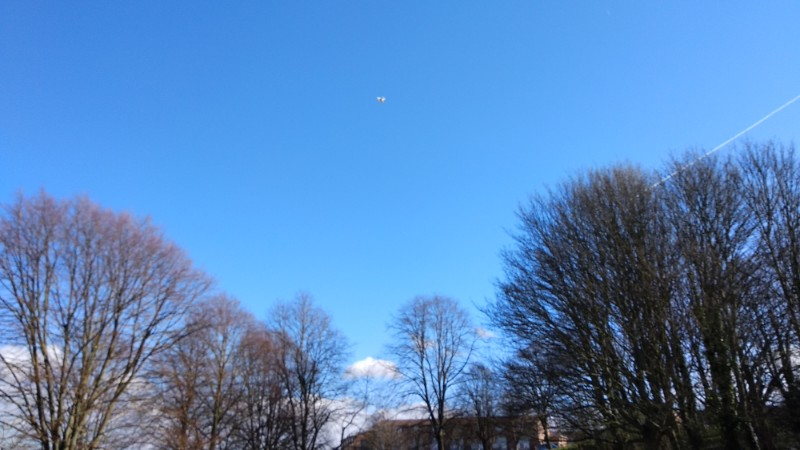drone: (373, 94, 389, 105)
